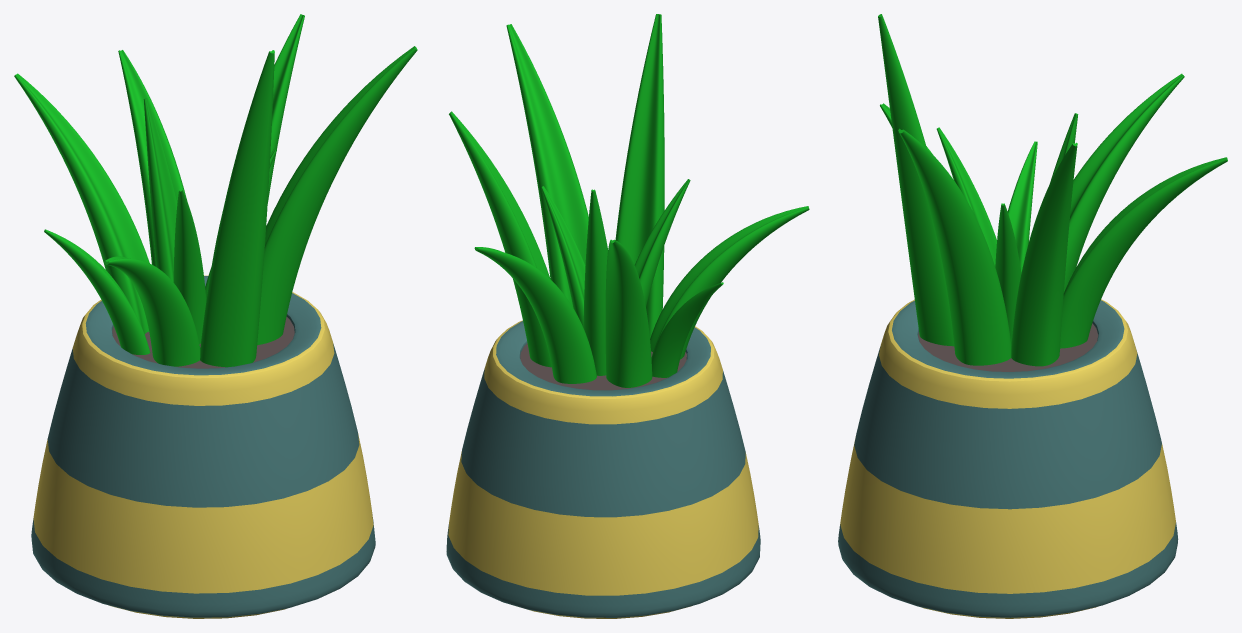
The model's file is plant2.glb.
3 renders of one model, left to right at view 1: azimuth 30°, elevation 25°; view 2: azimuth 150°, elevation 25°; view 3: azimuth 270°, elevation 25°, orthographic. The views are drawn at different scales.
Parts seen in each view (by area): view 1: Cylinder, NurbsPath001, NurbsPath005, NurbsPath002, NurbsPath, NurbsPath006, NurbsPath009, NurbsPath003, NurbsPath008, NurbsPath004, Cylinder001; view 2: Cylinder, NurbsPath001, NurbsPath005, NurbsPath002, NurbsPath003, NurbsPath004, NurbsPath, NurbsPath006, NurbsPath009, NurbsPath007, NurbsPath008, Cylinder001; view 3: Cylinder, NurbsPath005, NurbsPath004, NurbsPath001, NurbsPath003, NurbsPath002, NurbsPath007, NurbsPath009, Cylinder001, NurbsPath008.
Boxes of the visible parts, <box> form: Cylinder: <box>31,275,375,618</box>; NurbsPath001: <box>200,50,274,367</box>; NurbsPath005: <box>257,46,417,344</box>; NurbsPath002: <box>14,73,149,334</box>; NurbsPath: <box>104,256,200,366</box>; NurbsPath006: <box>143,98,177,281</box>; NurbsPath009: <box>44,229,150,354</box>; NurbsPath003: <box>118,50,187,266</box>; NurbsPath008: <box>173,189,206,343</box>; NurbsPath004: <box>212,14,304,264</box>; Cylinder001: <box>112,316,294,368</box>; Cylinder: <box>446,320,760,618</box>; NurbsPath001: <box>615,14,664,338</box>; NurbsPath005: <box>506,24,588,307</box>; NurbsPath002: <box>605,239,652,387</box>; NurbsPath003: <box>474,247,596,383</box>; NurbsPath004: <box>449,111,551,367</box>; NurbsPath: <box>650,206,809,359</box>; NurbsPath006: <box>583,189,607,375</box>; NurbsPath009: <box>651,282,723,377</box>; NurbsPath007: <box>541,186,585,327</box>; NurbsPath008: <box>634,179,690,306</box>; Cylinder001: <box>520,343,686,390</box>; Cylinder: <box>838,299,1178,618</box>; NurbsPath005: <box>898,128,1011,365</box>; NurbsPath004: <box>1011,142,1077,366</box>; NurbsPath001: <box>878,14,954,346</box>; NurbsPath003: <box>1060,157,1227,348</box>; NurbsPath002: <box>1064,73,1184,292</box>; NurbsPath007: <box>995,203,1021,345</box>; NurbsPath009: <box>1007,141,1037,272</box>; Cylinder001: <box>918,323,1098,371</box>; NurbsPath008: <box>936,127,996,266</box>.
Size of the model in its own units: 2.87 by 4.69 by 3.06.
